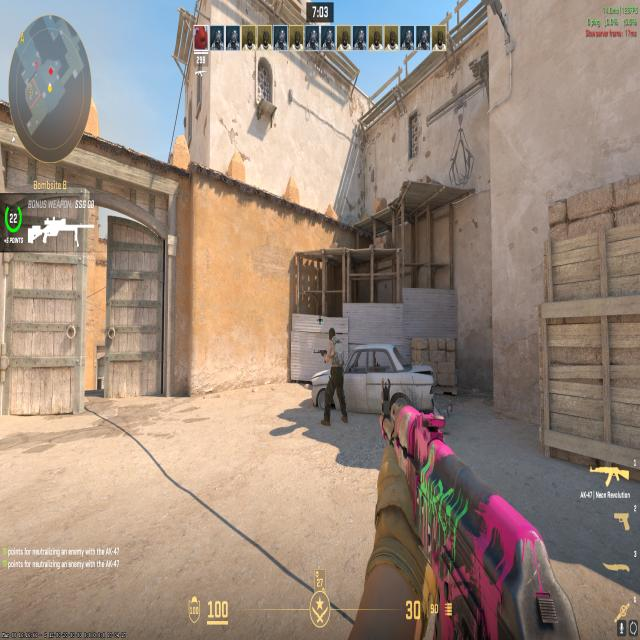t: (322, 324, 347, 427)
